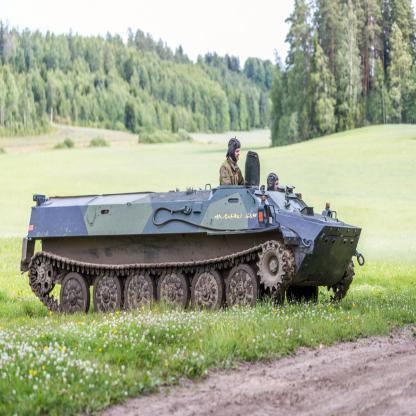MIL_IFV: (18, 139, 368, 321)
